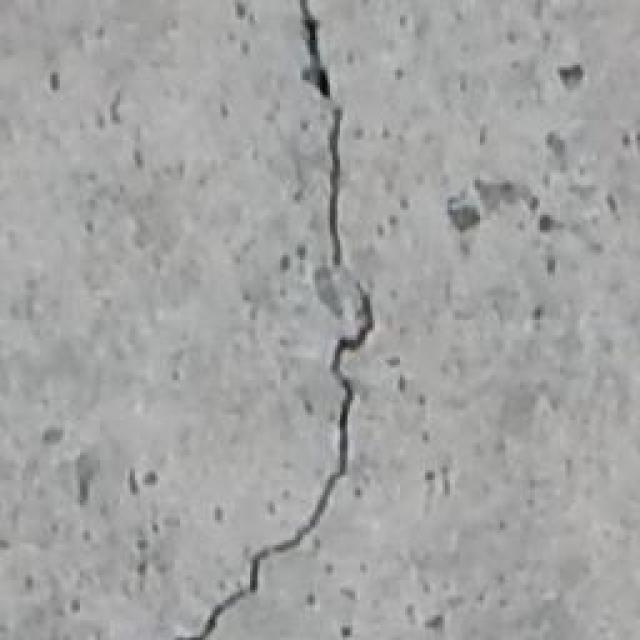concrete-crack: (180, 0, 375, 640)
